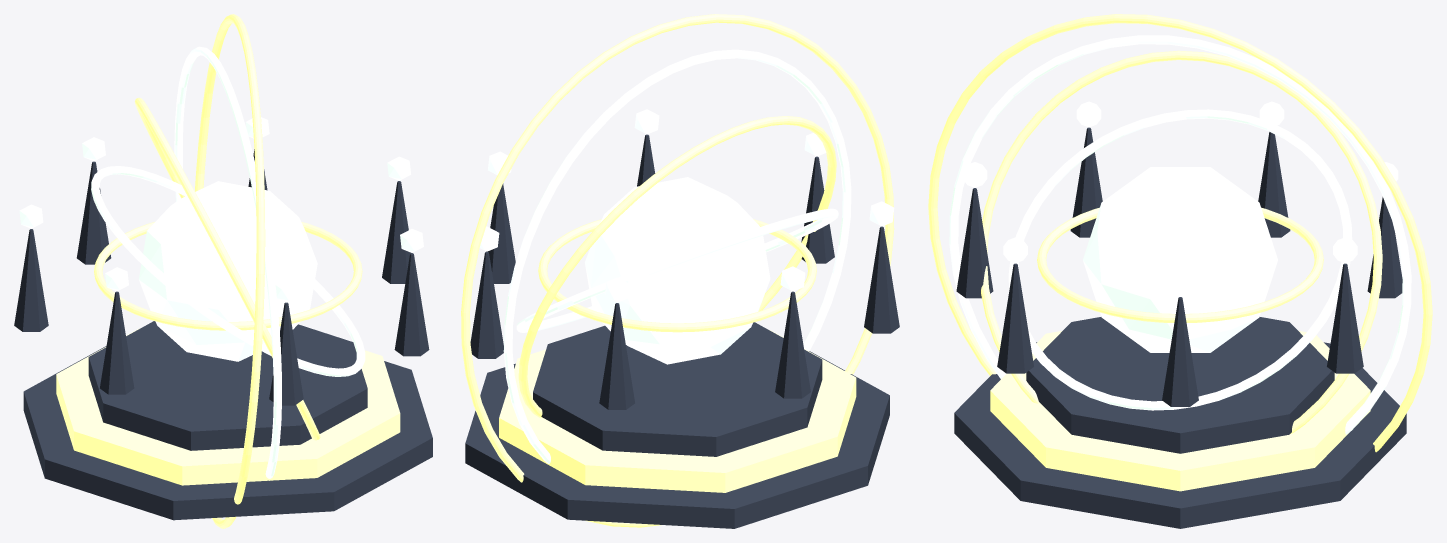
File: gpu-blender-totem.glb
3 renders of one model, left to right at view 1: azimuth 30°, elevation 25°; view 2: azimuth 150°, elevation 25°; view 3: azimuth 270°, elevation 25°, orthographic. The views are drawn at different scales.
Visible parts, largest first — view 1: Cylinder.002, Cylinder, SovereignCore_azoth-local-agent, Cylinder.001, Torus.004, Torus.003, Torus.001, Torus, Torus.002, Cone.006, Cone.004, Cone.003 (+3 smaller); view 2: Cylinder.002, SovereignCore_azoth-local-agent, Cylinder, Cylinder.001, Torus.004, Torus.003, Torus.002, Torus.001, Torus, Cone.004, Cone.003, Cone.002 (+4 smaller); view 3: SovereignCore_azoth-local-agent, Cylinder.002, Cylinder, Cylinder.001, Torus.004, Torus.003, Torus.002, Torus.001, Torus, Cone.001, Cone.006, Cone (+4 smaller).
Part boxes in pixels (left/top/right/bottom): Cylinder.002: left=88, top=321, right=367, bottom=450; Cylinder: left=23, top=346, right=432, bottom=520; SovereignCore_azoth-local-agent: left=139, top=181, right=317, bottom=361; Cylinder.001: left=56, top=328, right=400, bottom=485; Torus.004: left=195, top=14, right=265, bottom=528; Torus.003: left=174, top=46, right=281, bottom=480; Torus.001: left=91, top=166, right=365, bottom=376; Torus: left=94, top=222, right=362, bottom=330; Torus.002: left=135, top=97, right=320, bottom=440; Cone.006: left=394, top=253, right=429, bottom=356; Cone.004: left=100, top=291, right=134, bottom=394; Cone.003: left=14, top=229, right=48, bottom=331; Cylinder.002: left=533, top=322, right=822, bottom=456; SovereignCore_azoth-local-agent: left=585, top=177, right=770, bottom=364; Cylinder: left=465, top=351, right=889, bottom=528; Cylinder.001: left=499, top=330, right=856, bottom=492; Torus.004: left=461, top=14, right=894, bottom=527; Torus.003: left=503, top=49, right=851, bottom=463; Torus.002: left=518, top=116, right=836, bottom=417; Torus.001: left=516, top=208, right=838, bottom=332; Torus: left=538, top=219, right=816, bottom=332; Cone.004: left=864, top=226, right=899, bottom=333; Cone.003: left=775, top=291, right=810, bottom=398; Cone.002: left=599, top=303, right=634, bottom=409; SovereignCore_azoth-local-agent: left=1083, top=167, right=1277, bottom=352; Cylinder.002: left=1026, top=317, right=1334, bottom=453; Cylinder: left=954, top=342, right=1406, bottom=528; Cylinder.001: left=990, top=330, right=1370, bottom=491; Torus.004: left=928, top=14, right=1432, bottom=452; Torus.003: left=949, top=35, right=1411, bottom=434; Torus.002: left=981, top=50, right=1382, bottom=433; Torus.001: left=1008, top=109, right=1352, bottom=410; Torus: left=1037, top=207, right=1323, bottom=322; Cone.001: left=1327, top=263, right=1363, bottom=373; Cone.006: left=997, top=263, right=1033, bottom=373; Cone: left=1162, top=297, right=1198, bottom=406.
Size of the model in its own units: 4.41 by 5.33 by 4.9.
